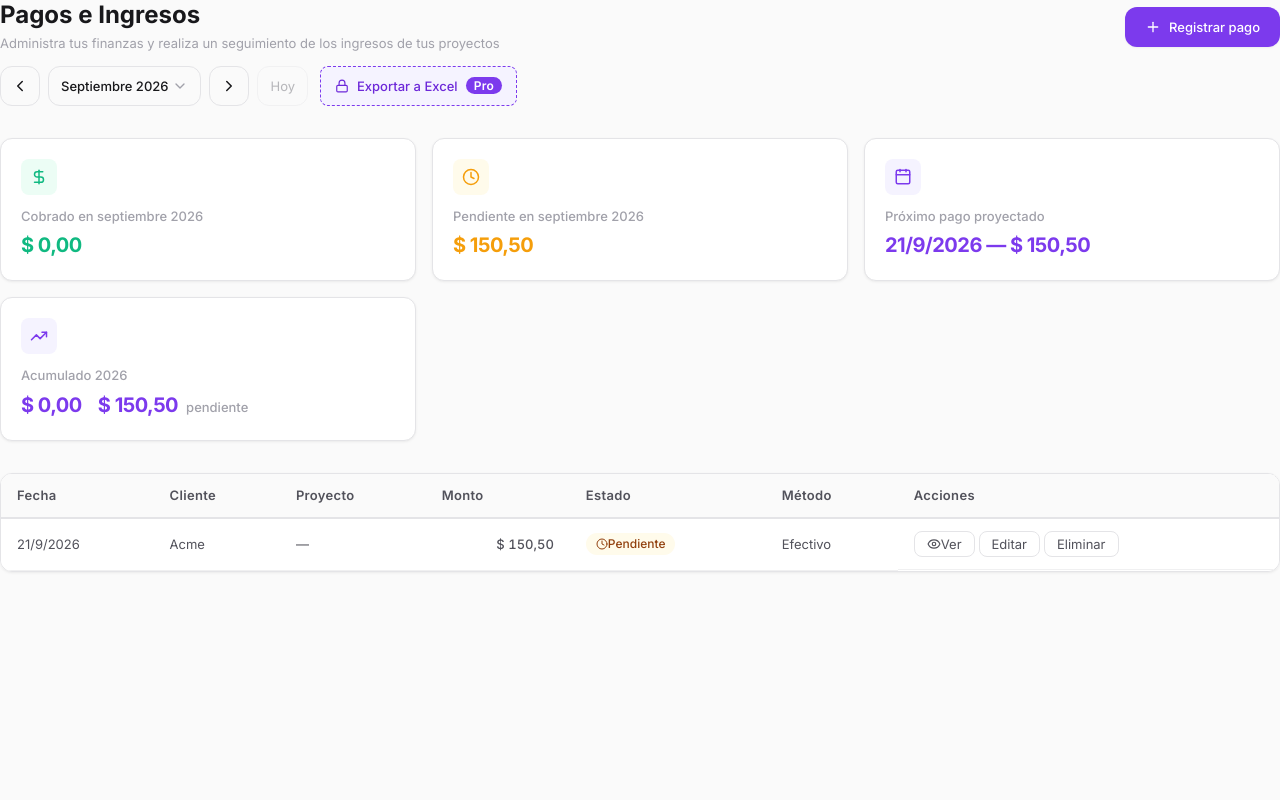
Test: PaymentsPage — toast feedback › shows 'Pago eliminado' after confirming a delete (triangulation: delete path)
What coordinates should you click on to do the following:
click the button "Eliminar"
I would click on:
 (1081, 544)
Its box is 1044,531 -> 1118,557.
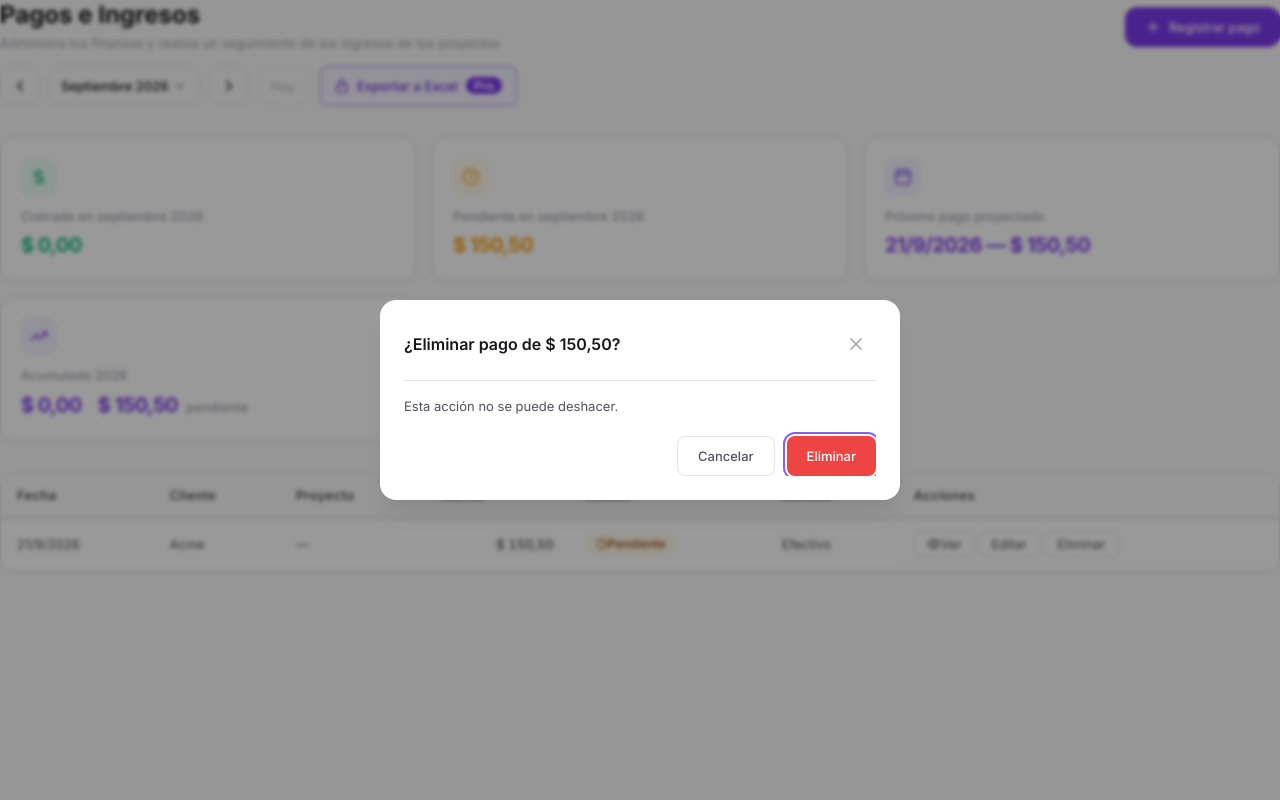
What coordinates should you click on to do the following:
click the button "Eliminar"
I would click on:
 (831, 456)
Its box is 786,436 -> 876,476.
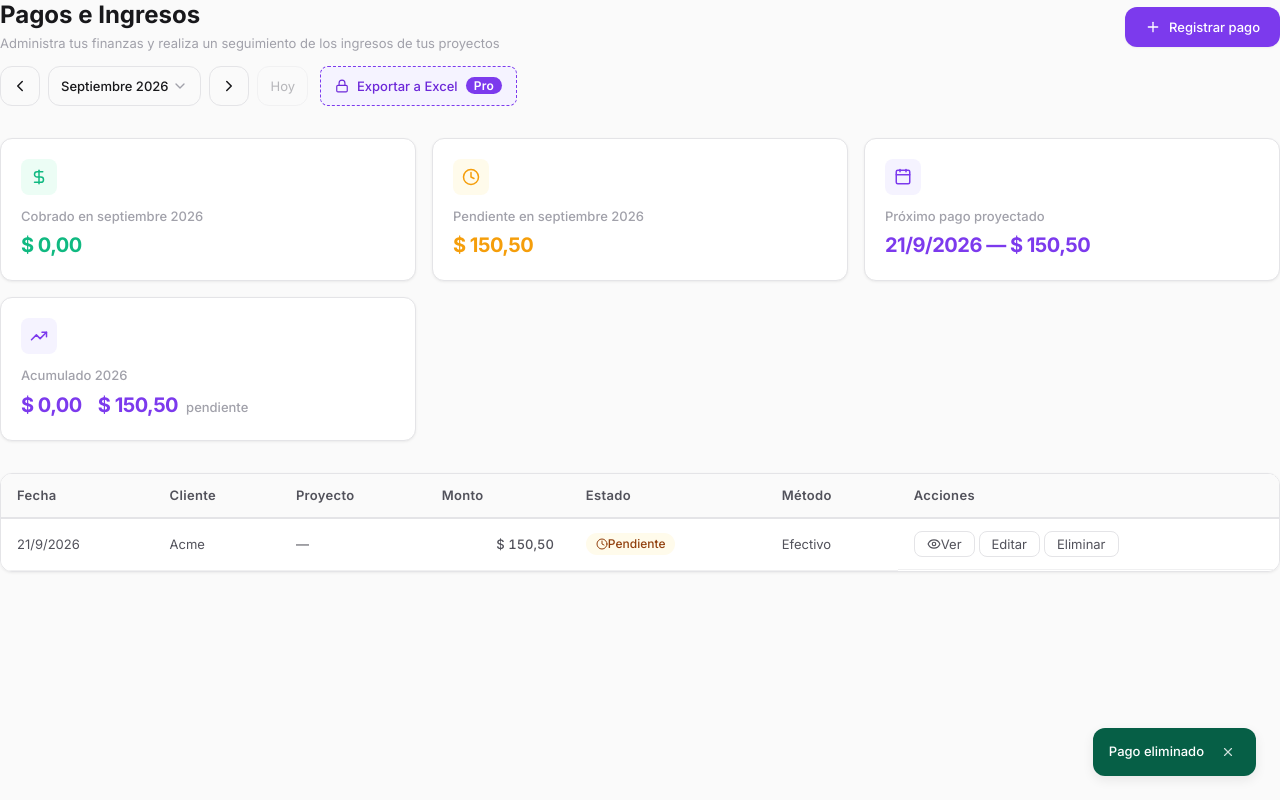
Result: the text "Pago eliminado" is shown at 1109,742 -> 1204,762
